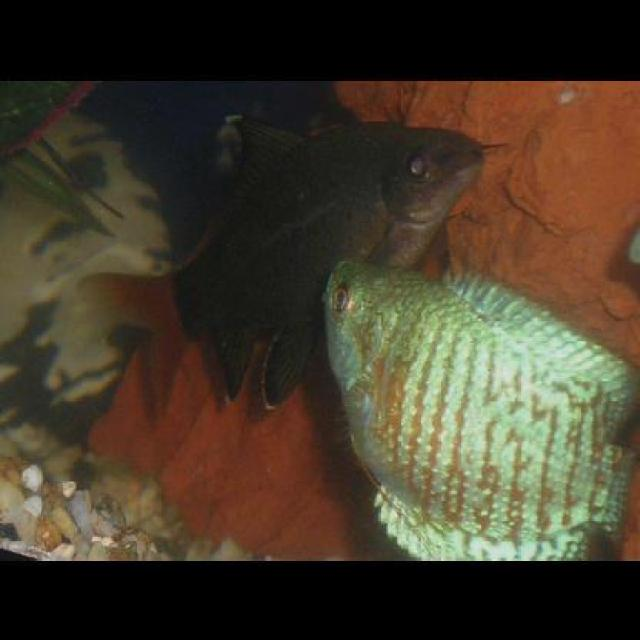Gourami: (324, 259, 638, 559)
